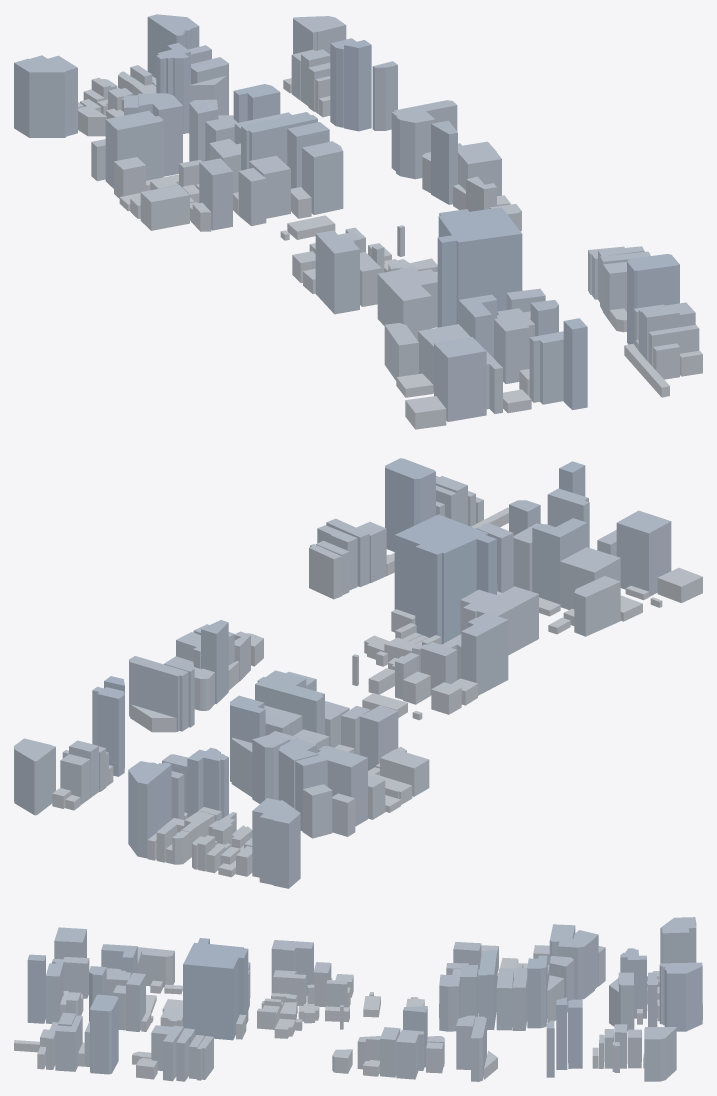
The picture shows the model from 3 angles, top to bottom: view 1: azimuth 30°, elevation 25°; view 2: azimuth 150°, elevation 25°; view 3: azimuth 270°, elevation 25°; orthographic projection. The views are drawn at different scales.
Size of the model in its own units: 165 by 47.31 by 412.
